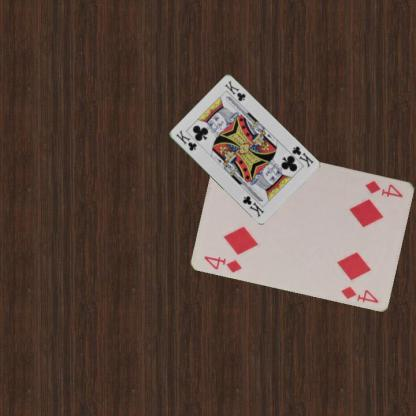4d: (363, 178, 404, 199), (202, 253, 243, 274)
Kc: (173, 127, 198, 152), (289, 143, 314, 168)
